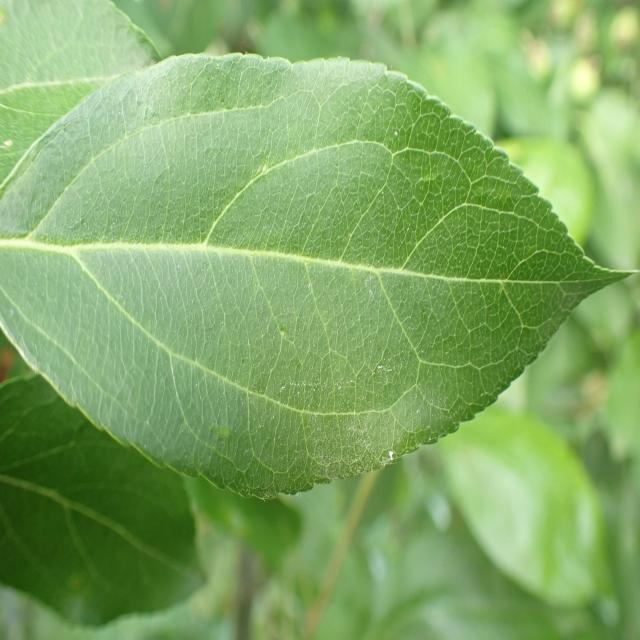healthy: (0, 53, 640, 500), (0, 372, 208, 628), (1, 0, 160, 189)
